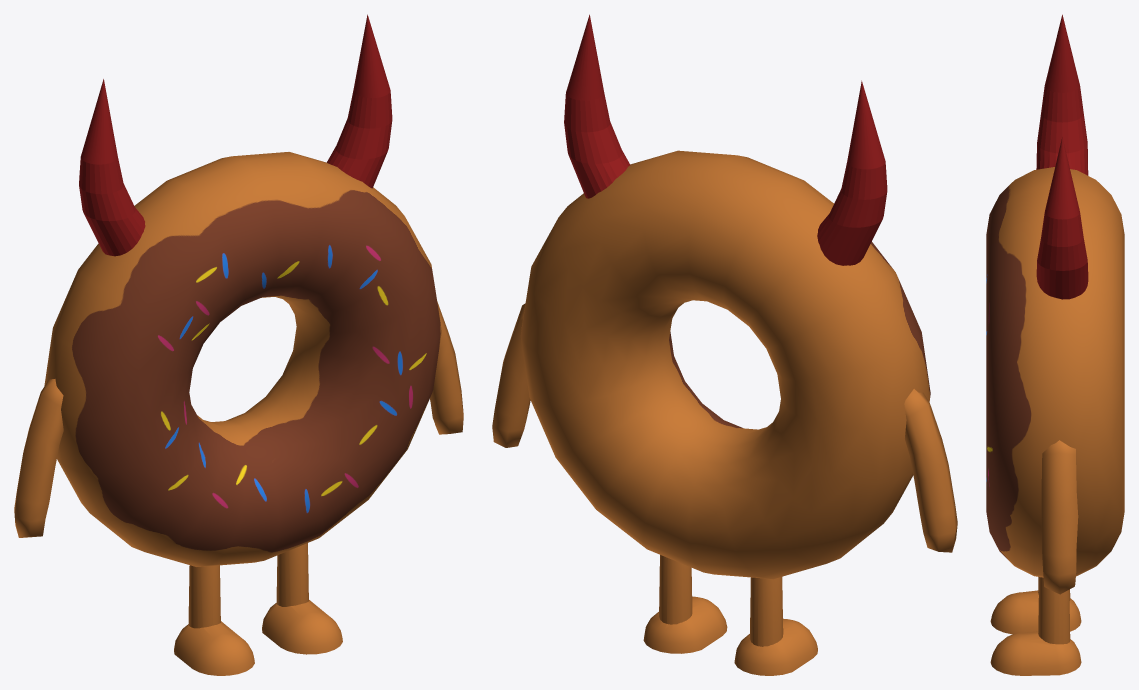
The model's file is Dona.fbx.
3 renders of one model, left to right at view 1: azimuth 30°, elevation 25°; view 2: azimuth 150°, elevation 25°; view 3: azimuth 270°, elevation 25°, orthographic. The views are drawn at different scales.
Parts seen in each view (by area): view 1: pTorus1, Cone002, Cone003, Sphere010, Sphere009, pSphere13, pSphere14; view 2: pTorus1, Cone002, Cone003, pSphere13, Sphere010, Sphere009, pSphere14; view 3: pTorus1, Cone003, pSphere14, Cone002, Sphere009, Sphere010.
Boxes of the visible parts, x1,y1,x2,y2 form: pTorus1: (44,152,441,566); Cone002: (79,79,145,256); Cone003: (327,14,392,188); Sphere010: (174,565,254,675); Sphere009: (262,543,342,654); pSphere13: (14,379,63,537); pSphere14: (430,302,463,434); pTorus1: (520,150,930,579); Cone002: (817,80,887,265); Cone003: (564,14,630,198); pSphere13: (904,389,957,552); Sphere010: (734,577,817,675); Sphere009: (643,555,727,653); pSphere14: (492,303,530,447); pTorus1: (986,167,1124,577); Cone003: (1036,137,1088,299); pSphere14: (1041,440,1078,594); Cone002: (1036,14,1088,175); Sphere009: (990,577,1081,675); Sphere010: (990,577,1081,634).
Size of the model in its own units: 14.01 by 17.7 by 3.95.
